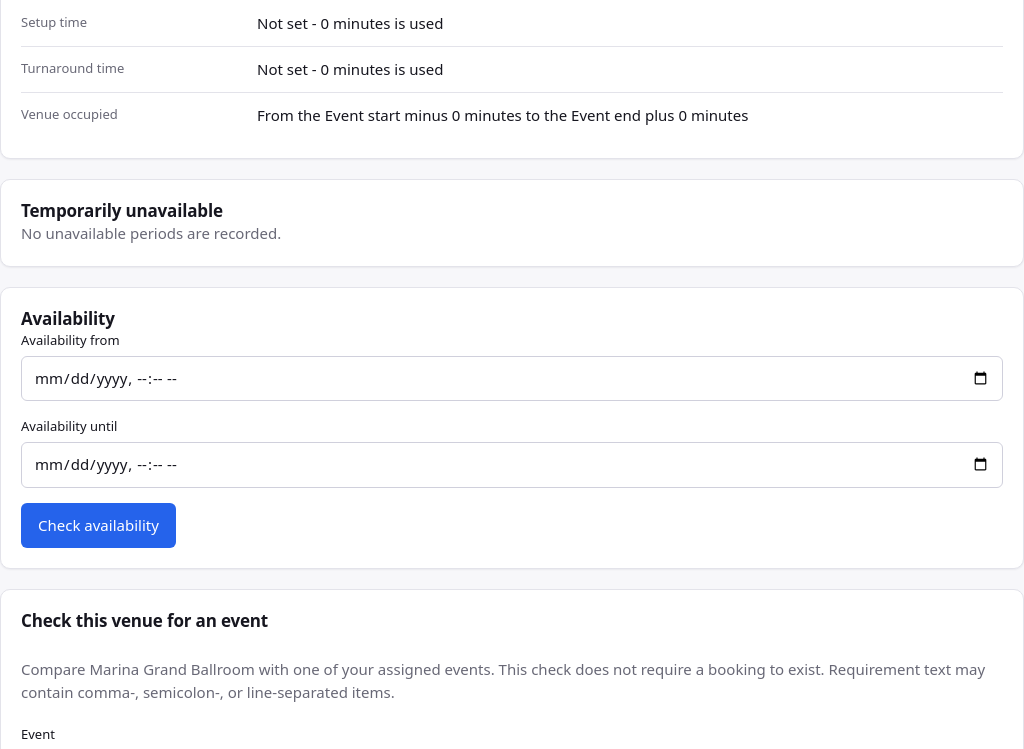
Test: SCRUM-41 AC2 - the availability calendar › says the venue is available when nothing is busy
(page scrolled)
Expected: the heading "Availability" is shown, top-left (21, 307), bottom-right (115, 330)
Type "2026-11-02T00:00" into the field labelled "Availability from".
click(512, 379); type("2026-11-02T00:00")  # box top-left (21, 356), bottom-right (1003, 401)
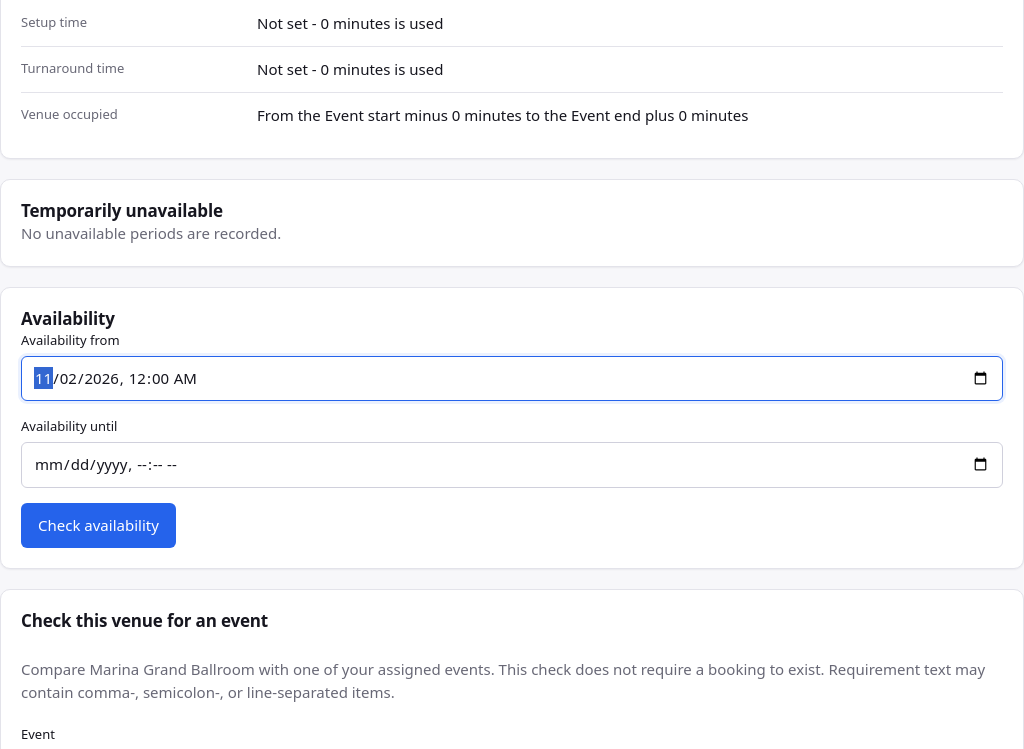
Type "2026-11-03T00:00" into the field labelled "Availability until".
click(512, 465); type("2026-11-03T00:00")  # box top-left (21, 442), bottom-right (1003, 488)
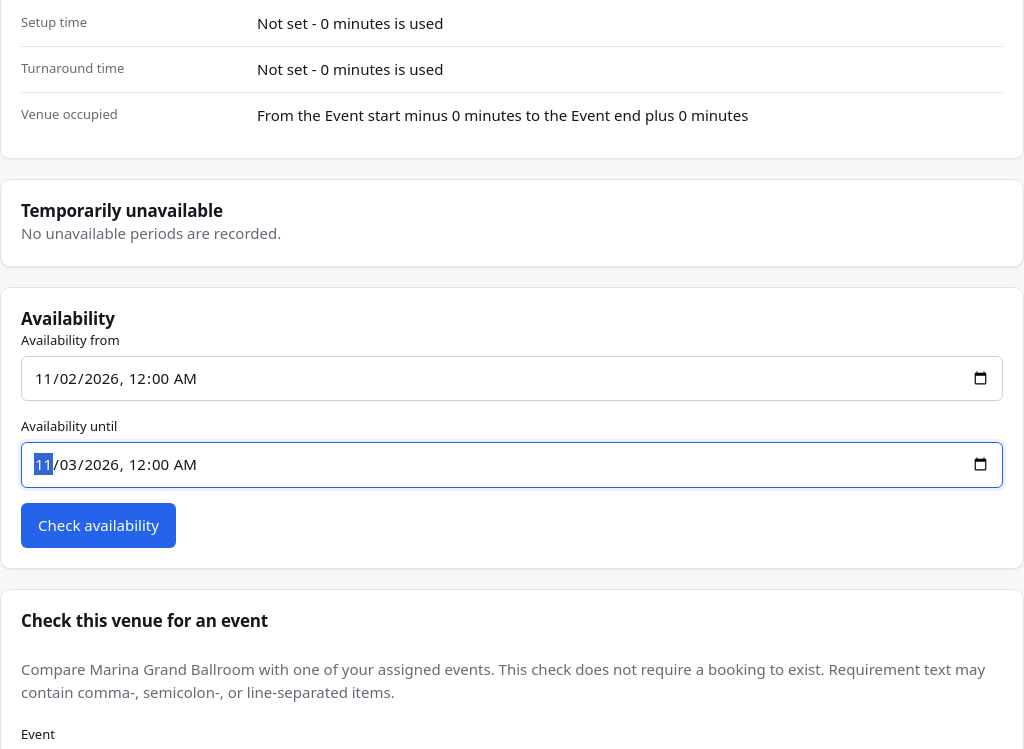
Click the button "Check availability".
click(98, 525)  # box top-left (21, 502), bottom-right (176, 548)
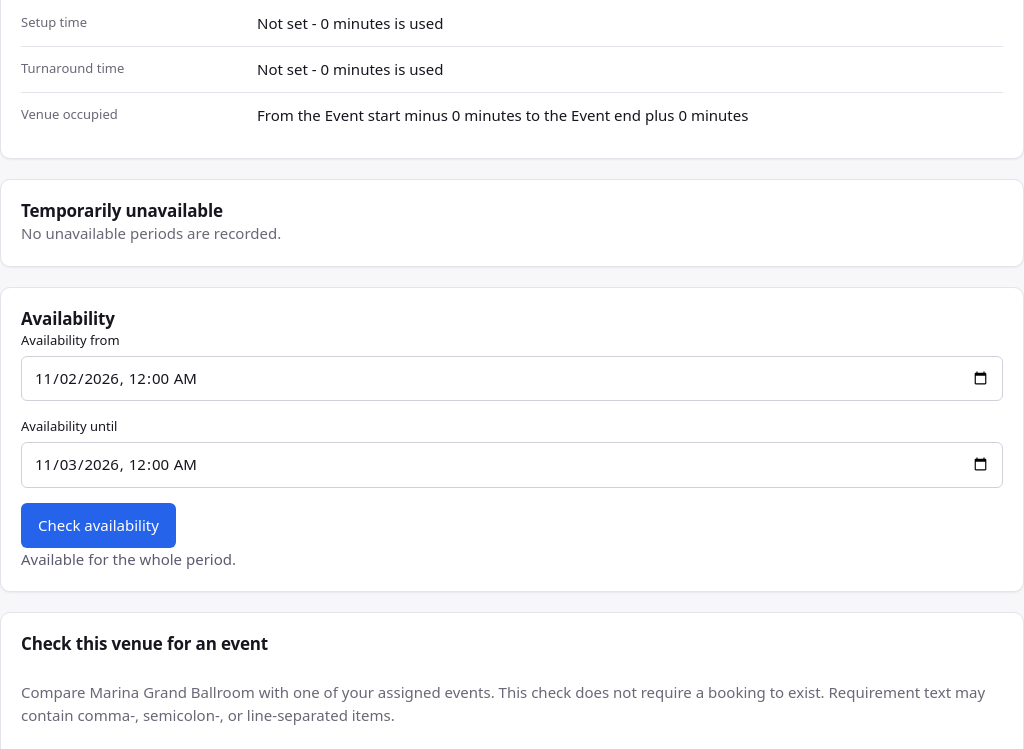
Expected: the text "Available for the whole period." is shown, top-left (21, 549), bottom-right (236, 569)
